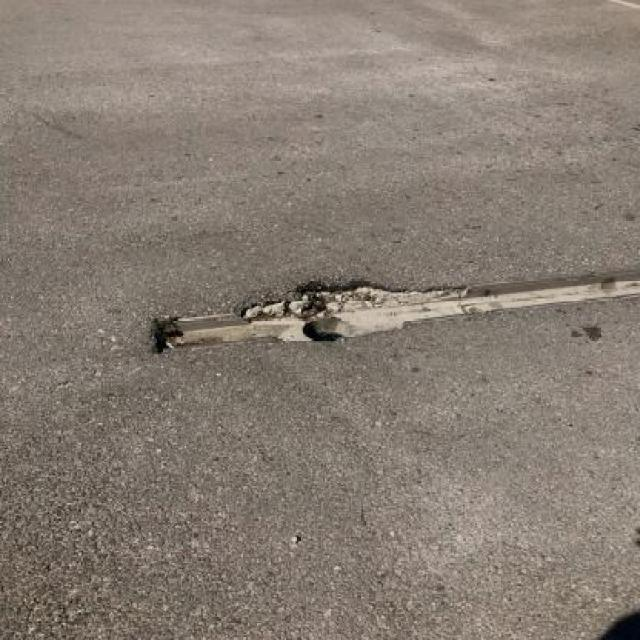Pothole: (151, 272, 640, 355)
